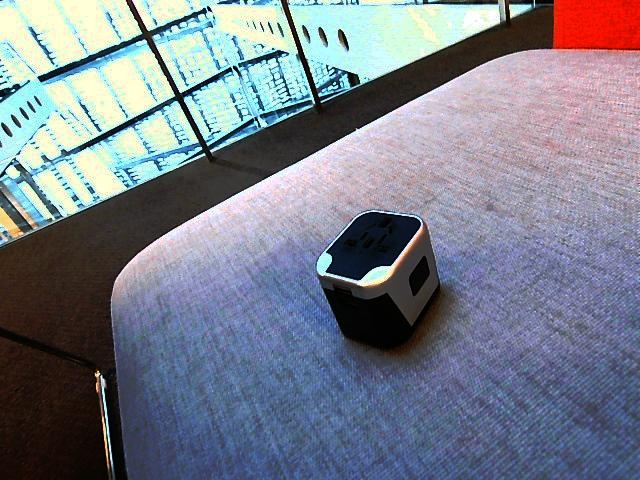adapter: (316, 208, 440, 348)
